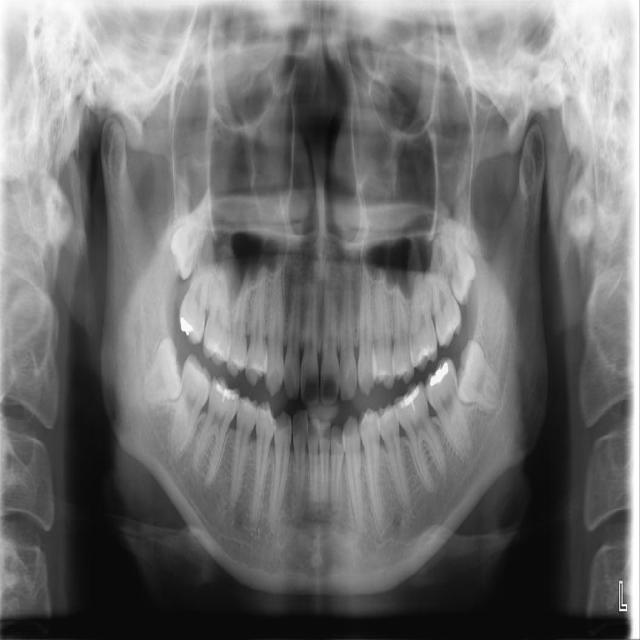Filling: (394, 382, 426, 411), (213, 379, 239, 402), (428, 361, 448, 388), (176, 314, 195, 337)
impacted tooth: (169, 181, 215, 280), (431, 216, 473, 304), (456, 343, 507, 408), (142, 339, 179, 401)
